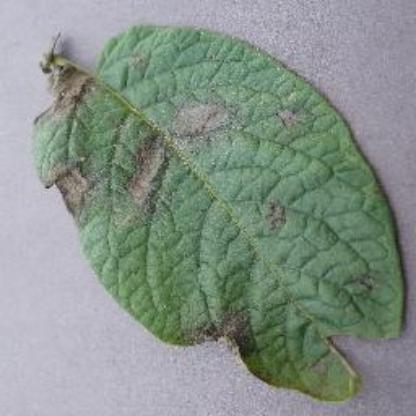Late-Blight: (24, 23, 411, 401)
